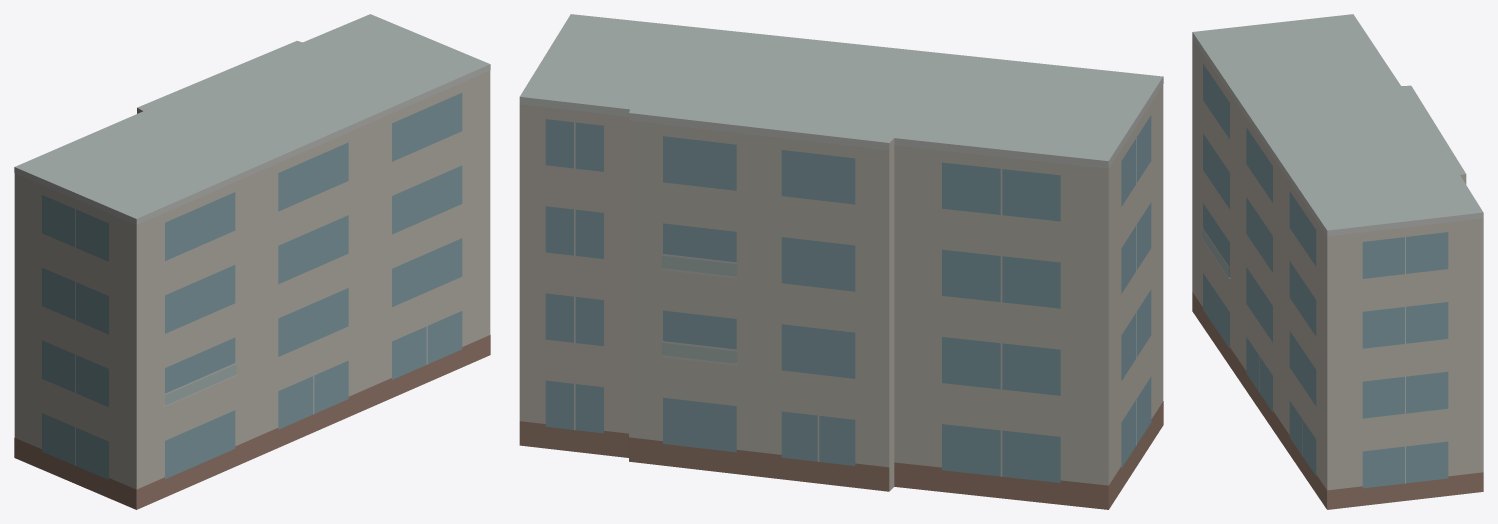
The model's file is survey-upis-32680136.glb.
3 views of the same model, side by side, from view 1: azimuth 30°, elevation 25°; view 2: azimuth 150°, elevation 25°; view 3: azimuth 270°, elevation 25° (orthographic). The views are drawn at different scales.
Visible parts, largest first — view 1: survey-upis-32680136.tmp; view 2: survey-upis-32680136.tmp; view 3: survey-upis-32680136.tmp.
Part boxes in pixels (box(x1,y1,x2,y2)): survey-upis-32680136.tmp: box(14, 14, 490, 509); survey-upis-32680136.tmp: box(519, 14, 1163, 509); survey-upis-32680136.tmp: box(1192, 14, 1483, 509).
Size of the model in its own units: 19.14 by 11.5 by 10.87.
